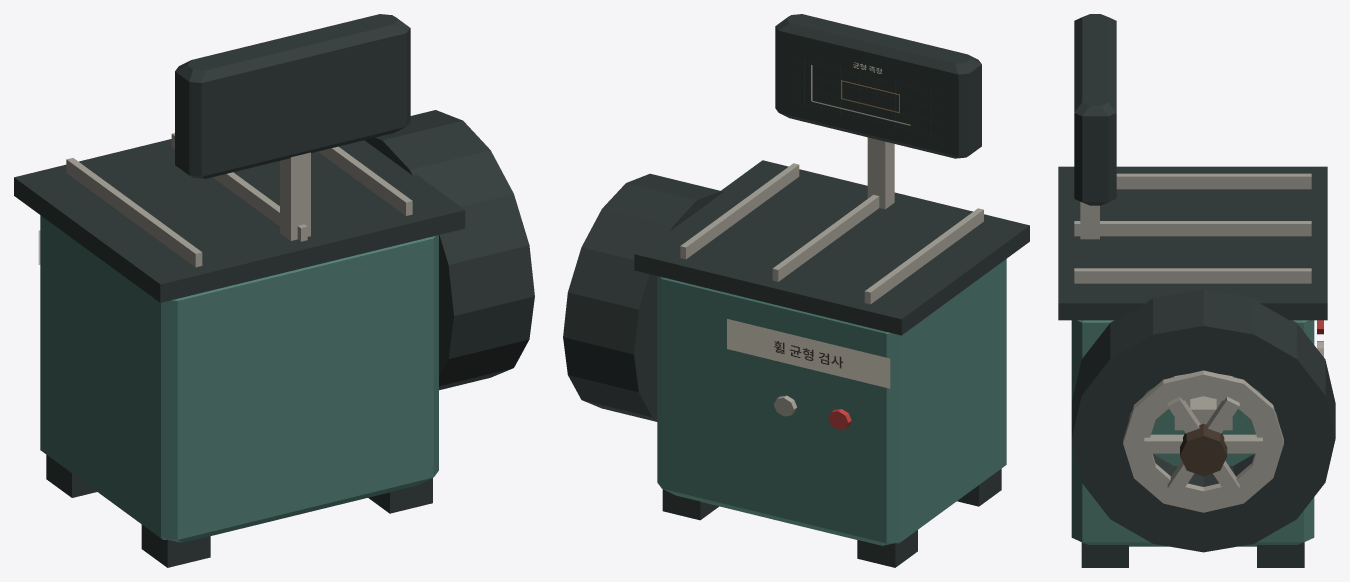
The model's file is T06_Wheel_Balancer.fbx.
3 renders of one model, left to right at view 1: azimuth 30°, elevation 25°; view 2: azimuth 150°, elevation 25°; view 3: azimuth 270°, elevation 25°, orthographic. The views are drawn at different scales.
Parts seen in each view (by area): view 1: Structure, Wheel; view 2: Structure, Wheel, Display, Title; view 3: Structure, Wheel.
Part boxes in pixels (box(x1,y1,x2,y2)): Structure: box(14, 14, 465, 567); Wheel: box(364, 110, 534, 390); Structure: box(634, 14, 1029, 567); Wheel: box(563, 173, 723, 421); Display: box(787, 42, 947, 146); Title: box(727, 319, 890, 388); Structure: box(1058, 14, 1327, 567); Wheel: box(1071, 289, 1335, 552).
Bounding box in the file's own units: 1.8 × 2 × 1.12.
6 materials, 1 textured.
